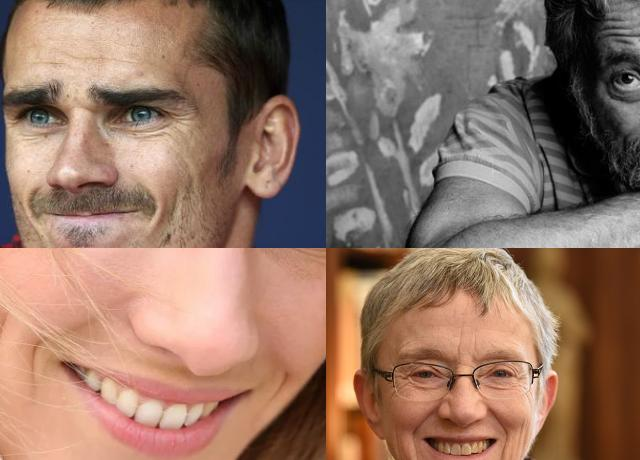crows_feet: (165, 102, 187, 131), (394, 368, 408, 390), (514, 370, 528, 392)
forehead: (59, 44, 110, 64), (604, 14, 636, 44)
frown_line: (453, 332, 463, 358), (471, 330, 481, 356)
gummy_smile: (408, 400, 438, 434), (487, 405, 511, 435)
masseter: (0, 305, 9, 355), (516, 416, 530, 448), (391, 424, 403, 458)
sad_smile: (26, 330, 46, 396), (144, 184, 170, 226), (265, 366, 287, 414), (22, 194, 44, 230), (409, 439, 424, 460), (498, 441, 509, 460)
